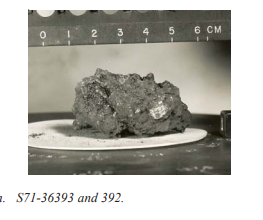Breccia: (63, 67, 205, 136)
